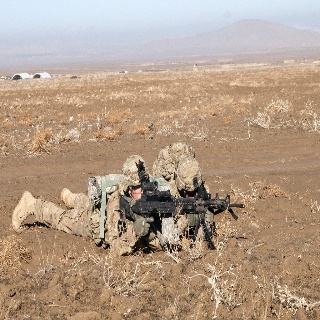rifle: (131, 170, 220, 220)
